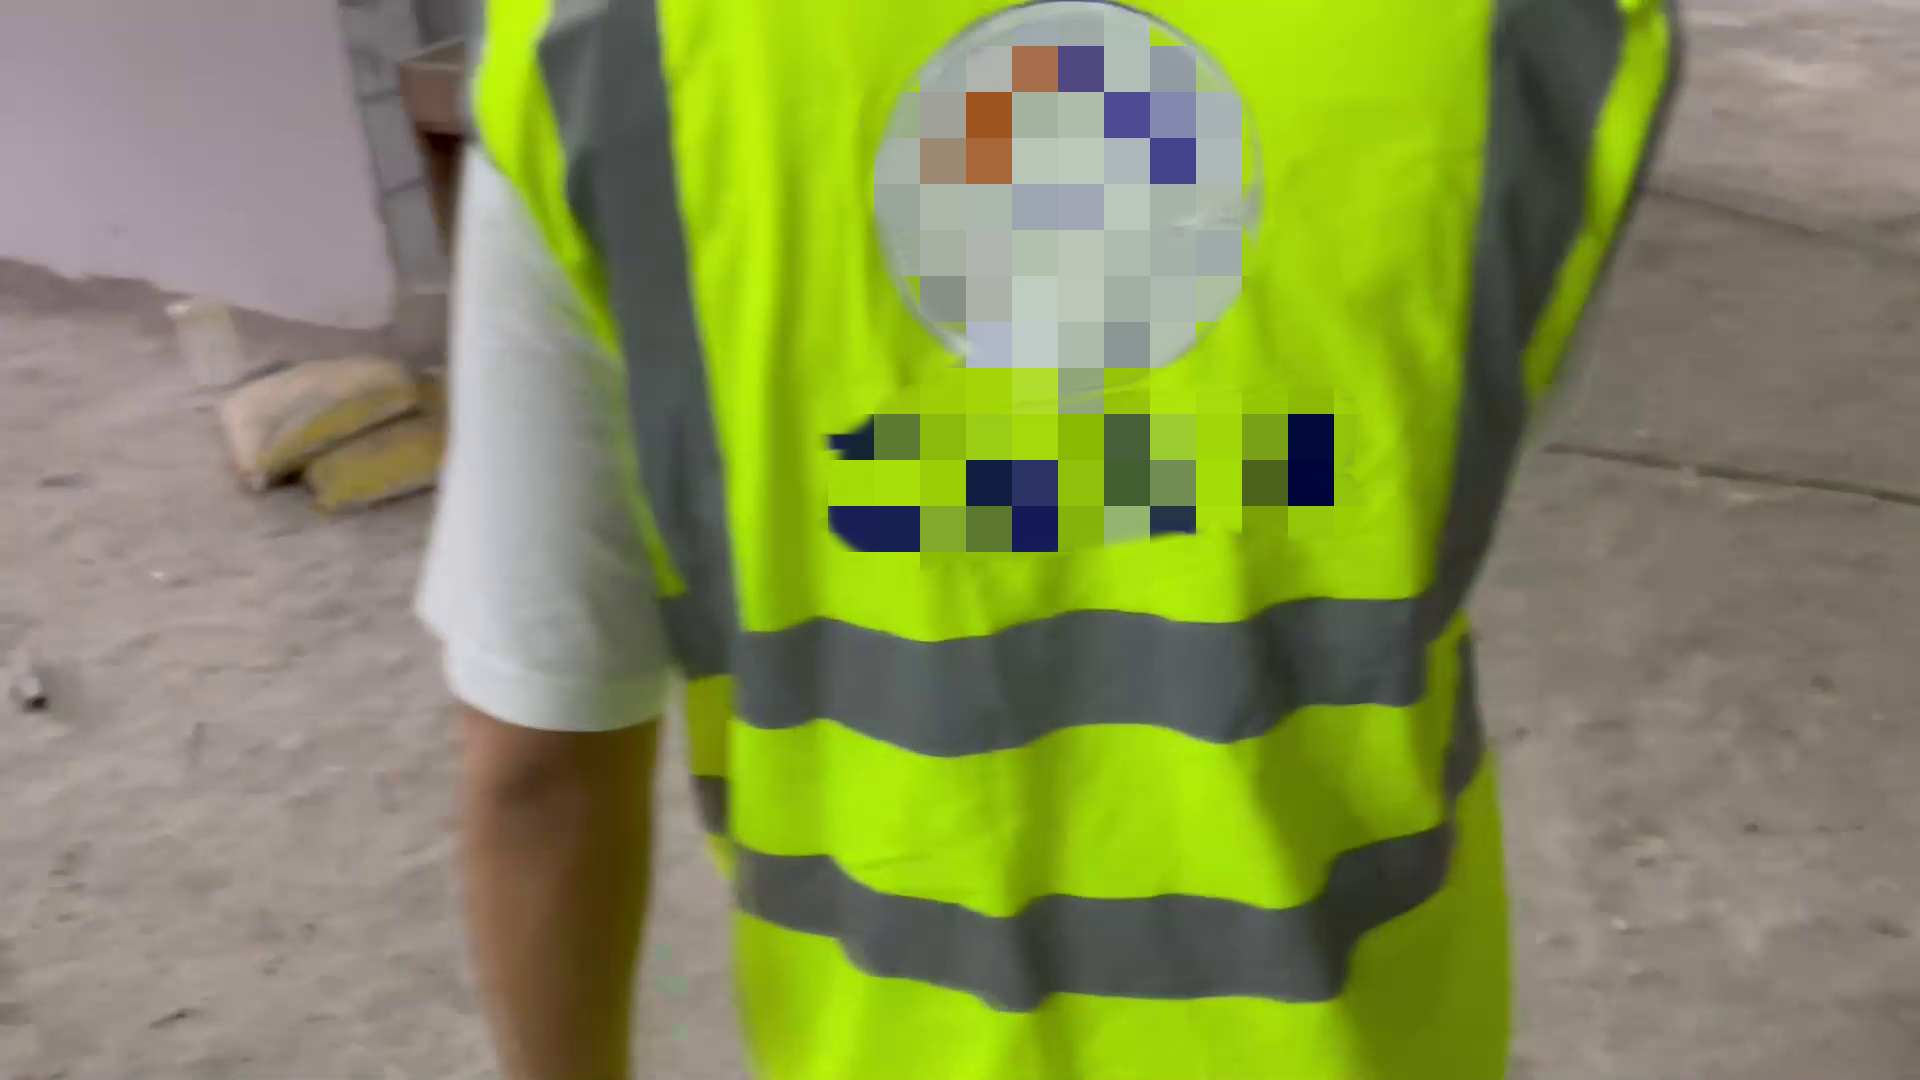person: (427, 4, 1703, 1080)
vest: (461, 6, 1629, 1080)
